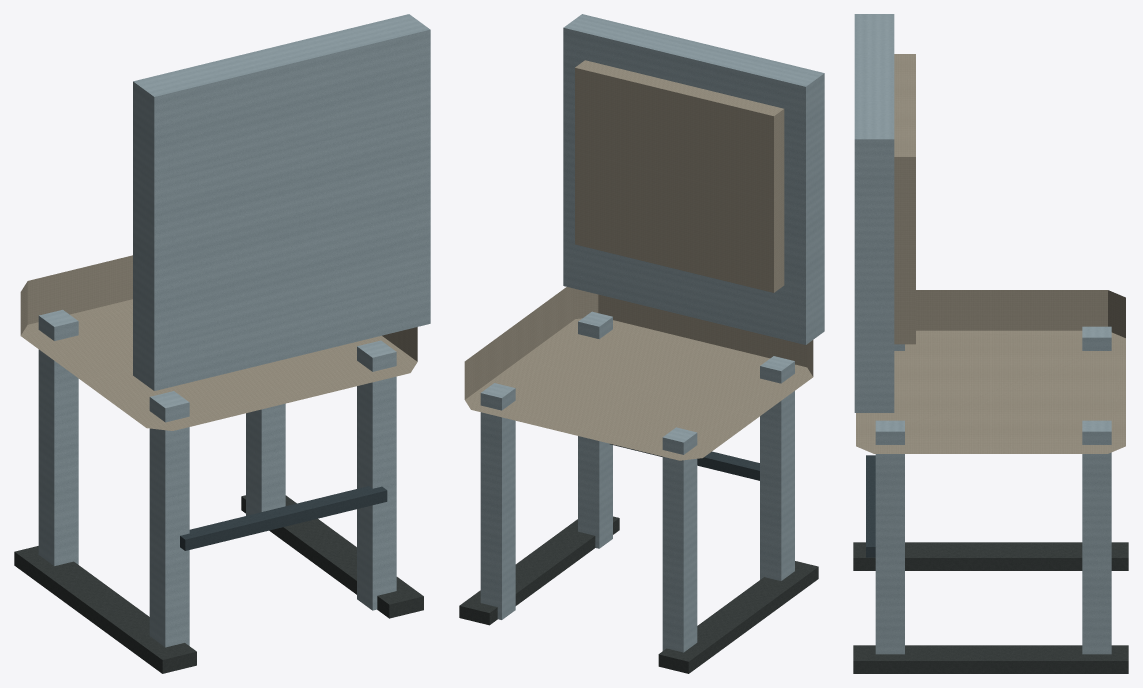
The model's file is crew_chair.glb.
3 views of the same model, side by side, from view 1: azimuth 30°, elevation 25°; view 2: azimuth 150°, elevation 25°; view 3: azimuth 270°, elevation 25° (orthographic). The views are drawn at different scales.
Parts seen in each view (by area): view 1: Back_Frame__alloy, Legs__alloy, Seat__fabricwarm, Non_Slip_Foot__rubber, Crossbrace__graphite; view 2: Back_Cushion__fabricwarm, Seat__fabricwarm, Back_Frame__alloy, Legs__alloy, Non_Slip_Foot__rubber, Crossbrace__graphite; view 3: Seat__fabricwarm, Back_Frame__alloy, Legs__alloy, Non_Slip_Foot__rubber, Back_Cushion__fabricwarm, Crossbrace__graphite.
Part boxes in pixels (box(x1,y1,x2,y2)): Back_Frame__alloy: box(133, 14, 430, 390); Legs__alloy: box(38, 309, 396, 647); Seat__fabricwarm: box(20, 255, 417, 430); Non_Slip_Foot__rubber: box(14, 495, 423, 673); Crossbrace__graphite: box(180, 486, 387, 550); Back_Cushion__fabricwarm: box(575, 60, 784, 292); Seat__fabricwarm: box(464, 287, 813, 460); Back_Frame__alloy: box(563, 14, 824, 344); Legs__alloy: box(480, 311, 794, 652); Non_Slip_Foot__rubber: box(459, 516, 818, 673); Crossbrace__graphite: box(610, 444, 759, 480); Seat__fabricwarm: box(856, 290, 1125, 453); Back_Frame__alloy: box(854, 14, 894, 412); Legs__alloy: box(875, 326, 1111, 654); Non_Slip_Foot__rubber: box(853, 542, 1128, 673); Back_Cushion__fabricwarm: box(894, 54, 915, 344); Crossbrace__graphite: box(866, 455, 875, 557).
Bounding box in the file's own units: 0.56 × 1.12 × 0.52.
4 materials, 4 textured.
